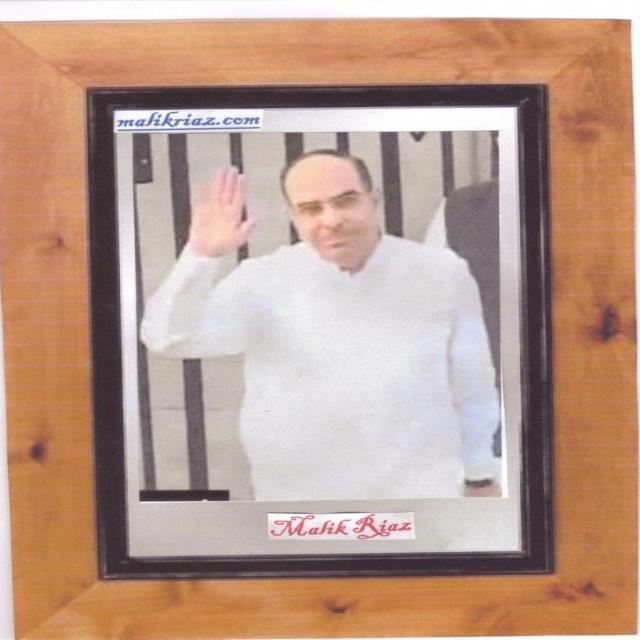nomask: (286, 164, 376, 254)
